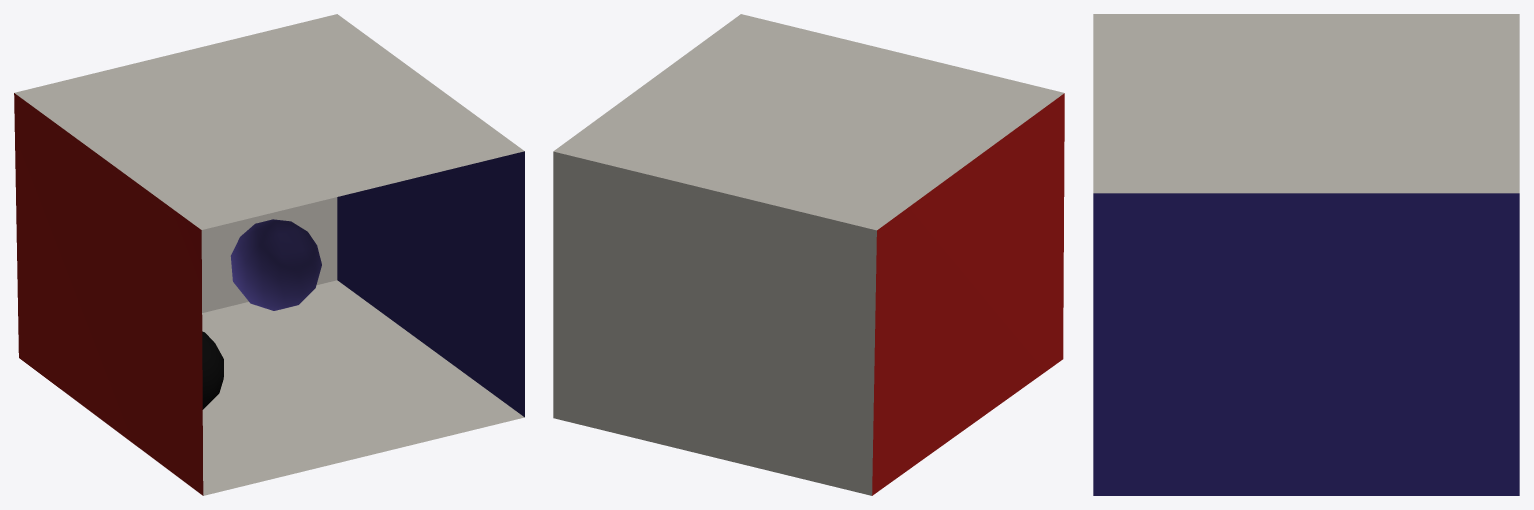
Rendered from CornellBox-Sphere-444.obj.
3 views of the same model, side by side, from view 1: azimuth 30°, elevation 25°; view 2: azimuth 150°, elevation 25°; view 3: azimuth 270°, elevation 25° (orthographic). The views are drawn at different scales.
Parts seen in each view (by area): view 1: ceiling, leftWall, floor, rightWall, leftSphere, backWall, rightSphere; view 2: backWall, ceiling, leftWall; view 3: rightWall, ceiling.
Part boxes in pixels (x1,y1,x2,y2): ceiling: [14, 14, 524, 229]; leftWall: [14, 93, 203, 495]; floor: [202, 280, 524, 495]; rightWall: [337, 151, 524, 417]; leftSphere: [230, 219, 321, 310]; backWall: [201, 197, 337, 312]; rightSphere: [202, 331, 223, 409]; backWall: [553, 151, 876, 495]; ceiling: [553, 14, 1064, 230]; leftWall: [872, 93, 1064, 495]; rightWall: [1093, 193, 1519, 495]; ceiling: [1093, 14, 1519, 193].
Bounding box in the file's own units: 2.02 × 1.59 × 2.03.
